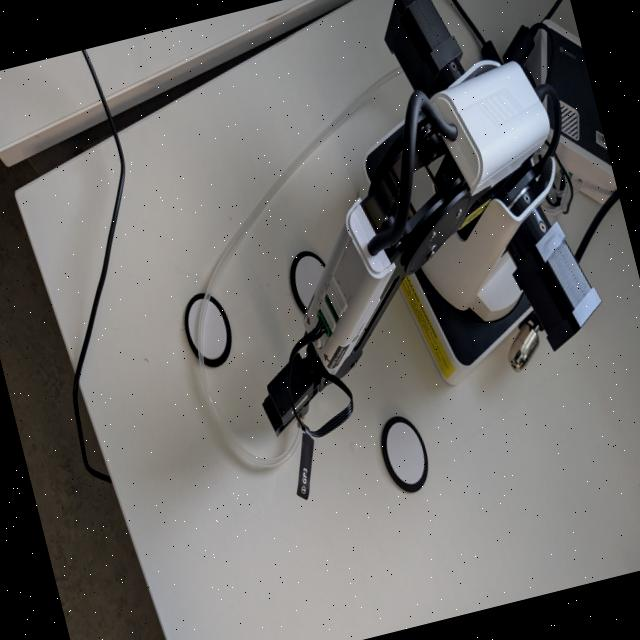Robot-end-effector-HF8z: (245, 342, 330, 450)
